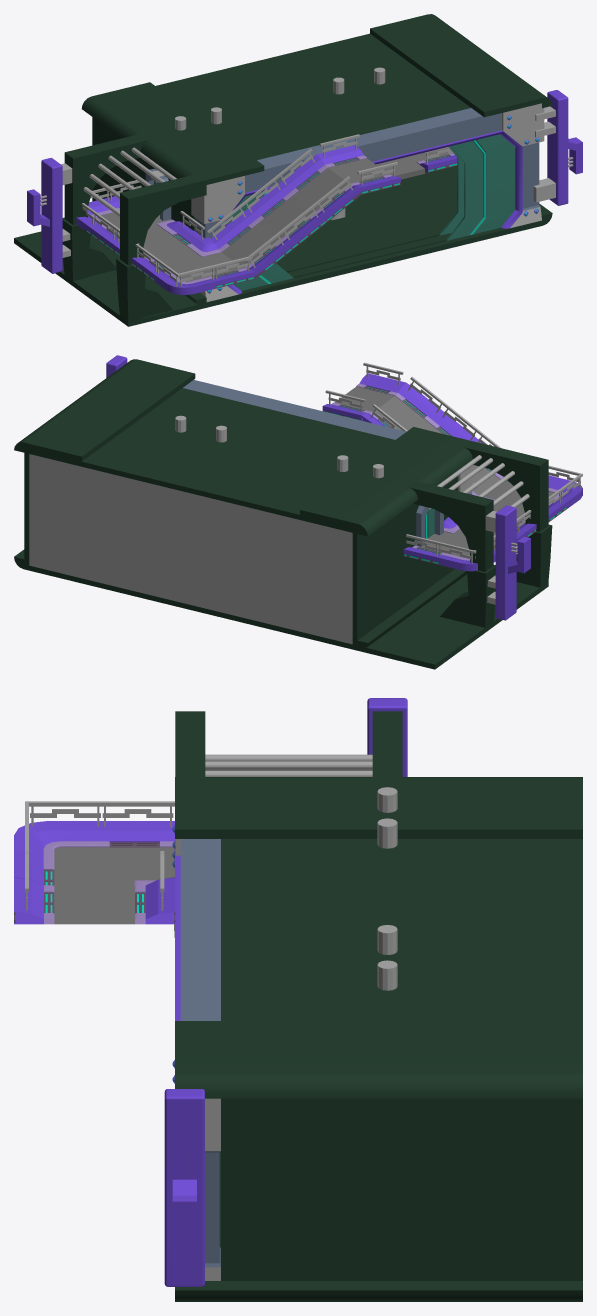
The model's file is Garage_UV.fbx.
3 renders of one model, top to bottom at view 1: azimuth 30°, elevation 25°; view 2: azimuth 150°, elevation 25°; view 3: azimuth 270°, elevation 25°, orthographic. The views are drawn at different scales.
Parts seen in each view (by area): view 1: Garage_UV; view 2: Garage_UV; view 3: Garage_UV.
Part boxes in pixels (x1,y1,x2,y2): Garage_UV: (14, 14, 582, 326); Garage_UV: (14, 355, 582, 669); Garage_UV: (14, 698, 582, 1301).
Size of the model in its own units: 25.2 by 7.31 by 14.14.
